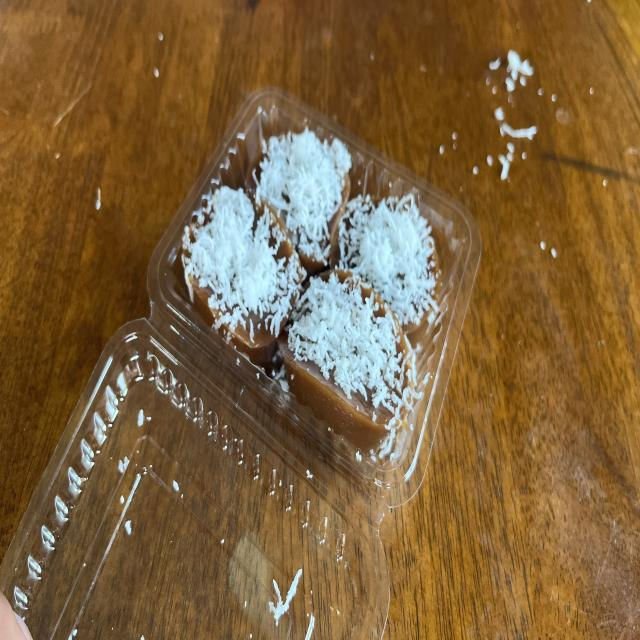Kuih lompang: (279, 269, 414, 449), (181, 187, 306, 364), (336, 193, 440, 353), (255, 127, 351, 276)
